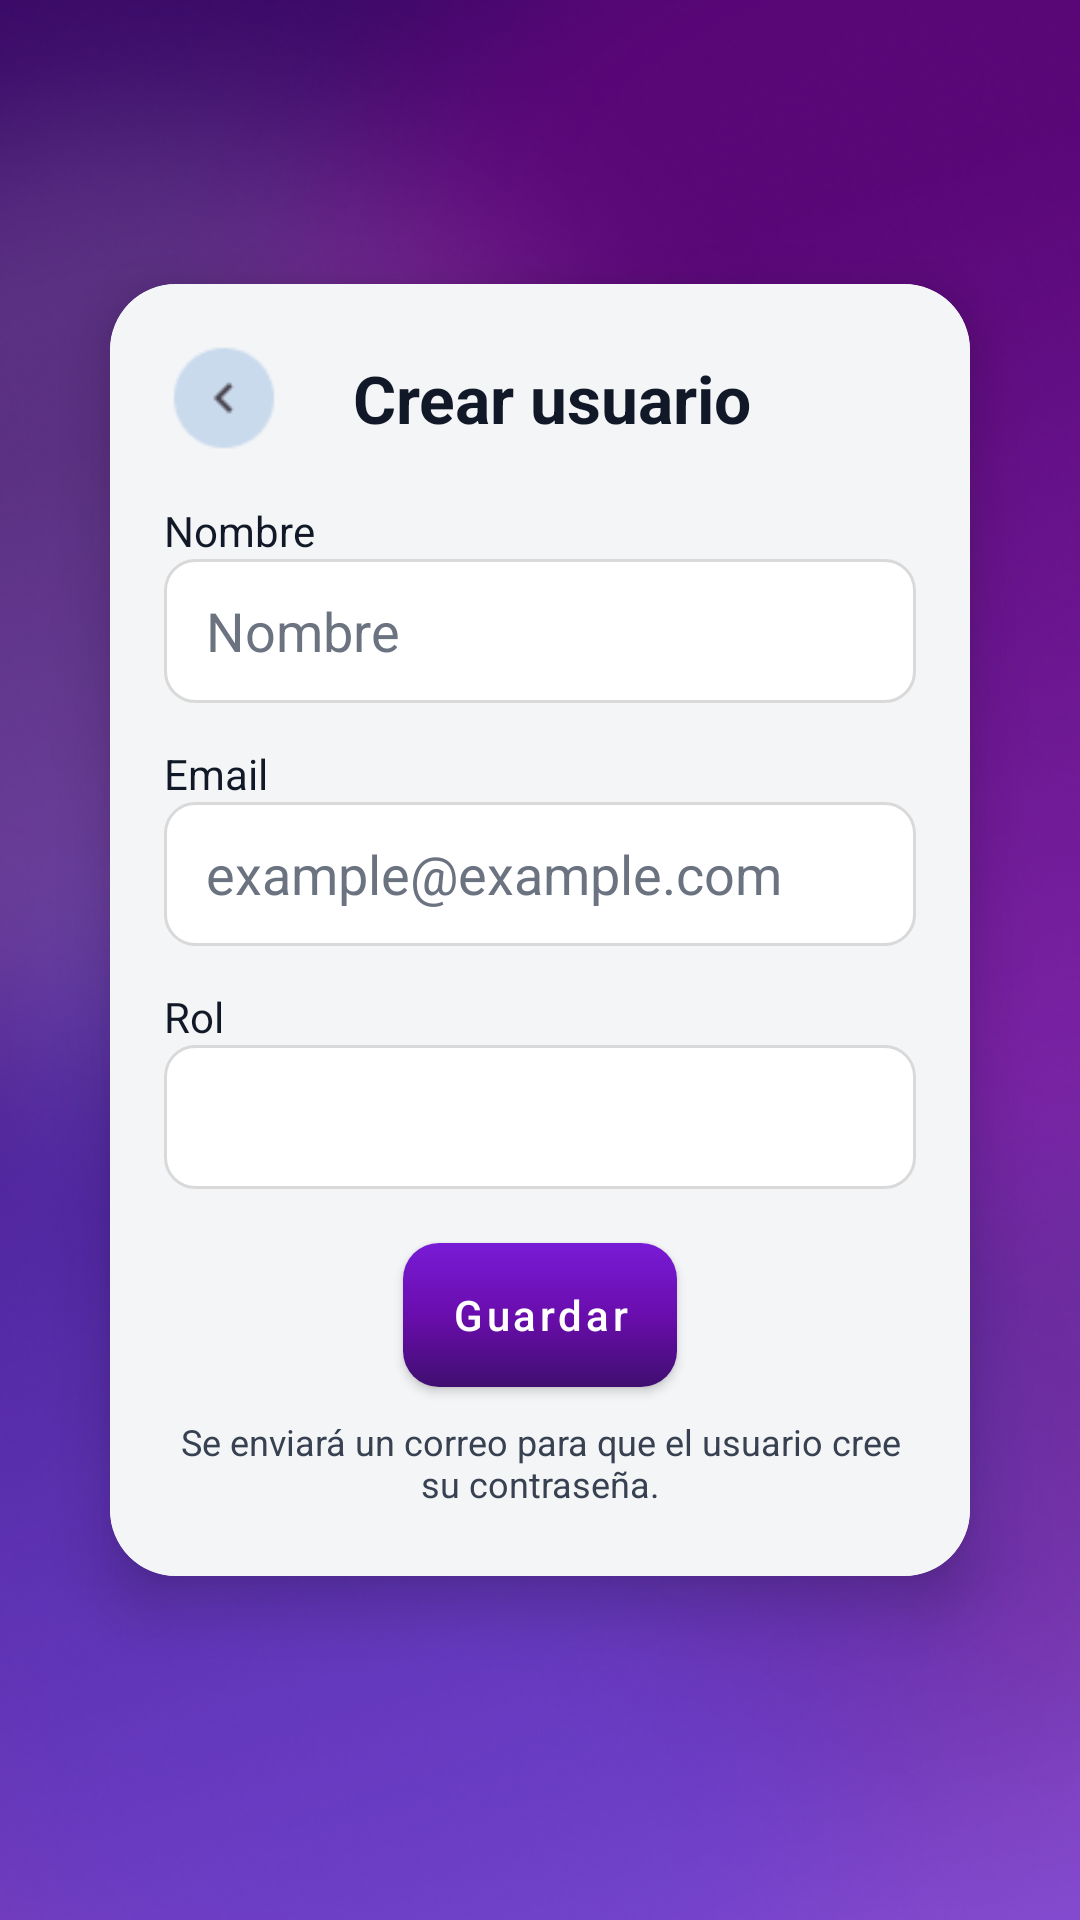

Named icons in this screenshot (1080 x 1920) and their centers, point (x, y):
Volver: point (224, 398)
